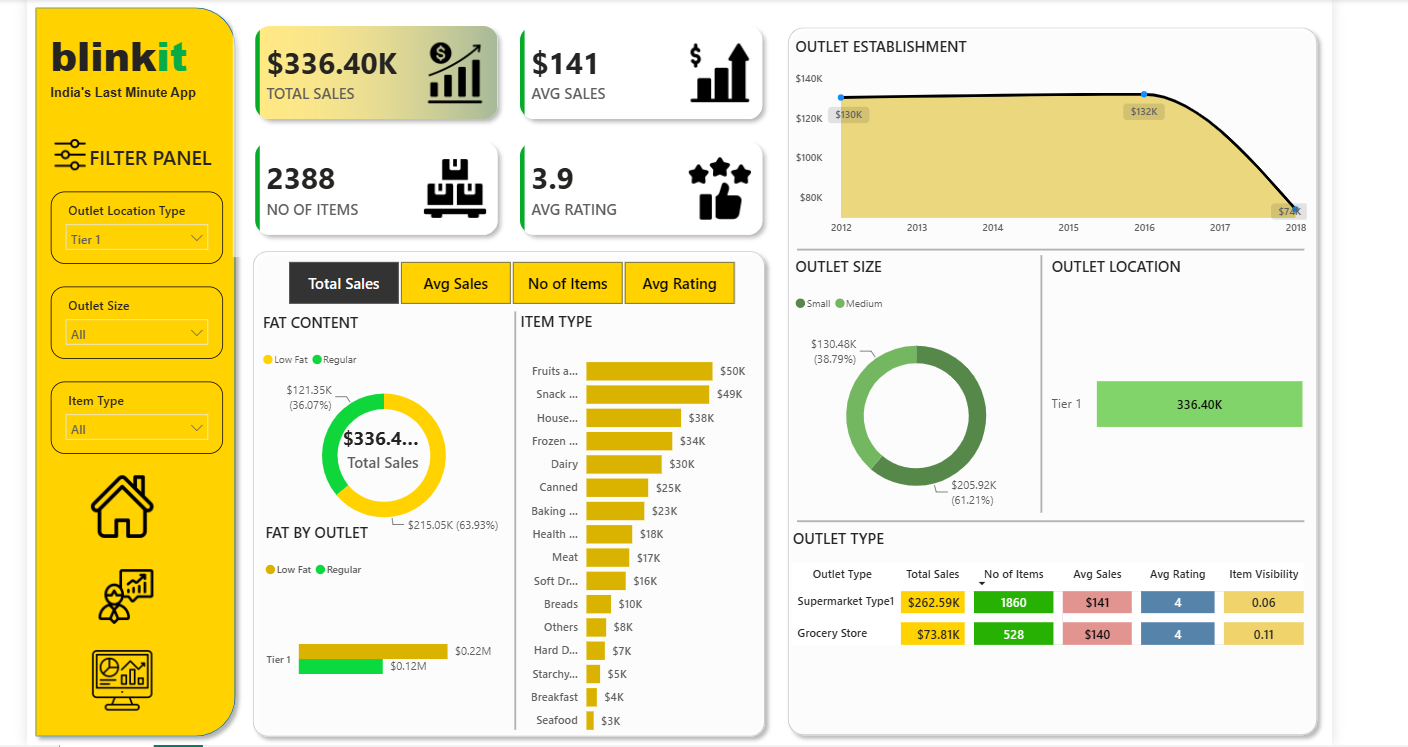

What the dashboard file says about the page in this screenshot:
{"tool":"powerbi","page":{"name":"Page 1","canvas":[1400,800],"ordinal":0},"visuals":[{"type":"shape","box":[0,0,232.6,800],"z":0},{"type":"textbox","box":[20,25.7,172.9,71],"z":1000},{"type":"textbox","box":[20,85.7,195.7,44.2],"z":2000},{"type":"cardVisual","fields":{"Data":["_Measures.Total Sales","_Measures.Avg Sales","_Measures.No of Items","_Measures.Avg Rating"]},"box":[215.7,0,603.3,283.7],"z":3000},{"type":"shape","box":[232.9,261.4,567.1,538.6],"z":4000},{"type":"donutChart","title":"FAT CONTENT","fields":{"Y":["_Measures.Avg Rating"],"Category":["BlinkIT Grocery Data (2).Item Fat Content"]},"box":[248.6,335.7,270,250],"z":5000},{"type":"slicer","fields":{"Values":["Metrics.Metrics"]},"box":[254.7,274.8,528.2,59],"z":6000},{"type":"cardVisual","fields":{"Data":["_Measures.Avg Rating"]},"box":[310,432.9,144.3,98.6],"z":7000},{"type":"clusteredBarChart","title":"FAT BY OUTLET","fields":{"Y":["_Measures.Avg Rating"],"Category":["BlinkIT Grocery Data (2).Outlet Location Type"],"Series":["BlinkIT Grocery Data (2).Item Fat Content"]},"box":[250.7,560.3,268.6,230],"z":8000},{"type":"shape","box":[455.7,335.7,135.7,448.6],"z":9000},{"type":"barChart","title":"ITEM TYPE","fields":{"Y":["_Measures.Avg Rating"],"Category":["BlinkIT Grocery Data (2).Item Type"]},"box":[524.1,333.8,252,465.1],"z":10000},{"type":"shape","box":[807.1,21.4,585.7,777.1],"z":11000},{"type":"lineChart","title":"OUTLET ESTABLISHMENT","fields":{"Y":["_Measures.Total Sales"],"Category":["BlinkIT Grocery Data (2).Outlet Establishment Year"]},"box":[818.6,38.6,558.6,222.9],"z":12000},{"type":"shape","box":[825.7,219.8,544.2,97.9],"z":13000},{"type":"donutChart","title":"OUTLET SIZE","fields":{"Y":["_Measures.Total Sales"],"Category":["BlinkIT Grocery Data (2).Outlet Size"]},"box":[819,274.8,269.4,285.5],"z":14000},{"type":"shape","box":[1020.1,274.8,135.4,276.1],"z":15000},{"type":"funnel","title":"OUTLET LOCATION","fields":{"Y":["Sum(BlinkIT Grocery Data (2).Sales)"],"Category":["BlinkIT Grocery Data (2).Outlet Location Type"]},"box":[1093.8,274.8,284.2,285.5],"z":16000},{"type":"shape","box":[825.7,510.7,544.3,98.6],"z":17000},{"type":"pivotTable","title":"OUTLET TYPE","fields":{"Rows":["BlinkIT Grocery Data (2).Outlet Type"],"Values":["_Measures.Total Sales","_Measures.No of Items","_Measures.Avg Sales","_Measures.Avg Rating","Avg(BlinkIT Grocery Data (2).Item Visibility)"]},"box":[816.4,567,568.4,213.1],"z":18000},{"type":"slicer","fields":{"Values":["BlinkIT Grocery Data (2).Outlet Location Type"]},"box":[25.5,206.4,185,77.7],"z":19000},{"type":"slicer","fields":{"Values":["BlinkIT Grocery Data (2).Outlet Size"]},"box":[25.5,308.3,185,77.7],"z":20000},{"type":"slicer","fields":{"Values":["BlinkIT Grocery Data (2).Item Type"]},"box":[25.5,410.2,185,77.7],"z":21000},{"type":"textbox","box":[61.5,150.1,153.1,49.5],"z":21001},{"type":"image","box":[17.4,150.1,57.6,33.5],"z":21002},{"type":"image","box":[46.9,697.1,109.9,67],"z":21003},{"type":"image","box":[50.9,607.2,109.9,67],"z":21004},{"type":"image","box":[46.9,510.7,109.9,67],"z":21005}]}

Visuals, with their boxes on the page's 1400x800 design canvas (x1, y1, x2, y2). These are canvas units, not pixel positions in the 1408x747 screenshot, which may show the page scaled, cropped or inside an application window:
shape: region(0, 0, 233, 800)
textbox: region(20, 26, 193, 97)
textbox: region(20, 86, 216, 130)
cardVisual - _Measures.Total Sales x _Measures.Avg Sales: region(216, 0, 819, 284)
shape: region(233, 261, 800, 800)
"FAT CONTENT" donutChart: region(249, 336, 519, 586)
slicer - Metrics.Metrics: region(255, 275, 783, 334)
cardVisual - _Measures.Avg Rating: region(310, 433, 454, 532)
"FAT BY OUTLET" clusteredBarChart: region(251, 560, 519, 790)
shape: region(456, 336, 591, 784)
"ITEM TYPE" barChart: region(524, 334, 776, 799)
shape: region(807, 21, 1393, 798)
"OUTLET ESTABLISHMENT" lineChart: region(819, 39, 1377, 262)
shape: region(826, 220, 1370, 318)
"OUTLET SIZE" donutChart: region(819, 275, 1088, 560)
shape: region(1020, 275, 1156, 551)
"OUTLET LOCATION" funnel: region(1094, 275, 1378, 560)
shape: region(826, 511, 1370, 609)
"OUTLET TYPE" pivotTable: region(816, 567, 1385, 780)
slicer - BlinkIT Grocery Data (2).Outlet Location Type: region(26, 206, 210, 284)
slicer - BlinkIT Grocery Data (2).Outlet Size: region(26, 308, 210, 386)
slicer - BlinkIT Grocery Data (2).Item Type: region(26, 410, 210, 488)
textbox: region(62, 150, 215, 200)
image: region(17, 150, 75, 184)
image: region(47, 697, 157, 764)
image: region(51, 607, 161, 674)
image: region(47, 511, 157, 578)
